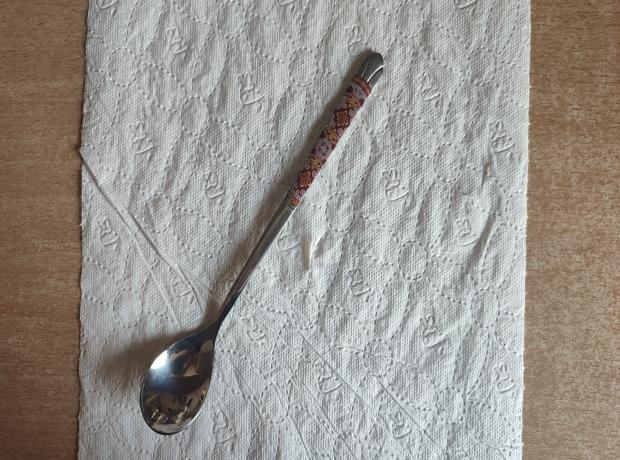metal: (139, 50, 385, 435)
